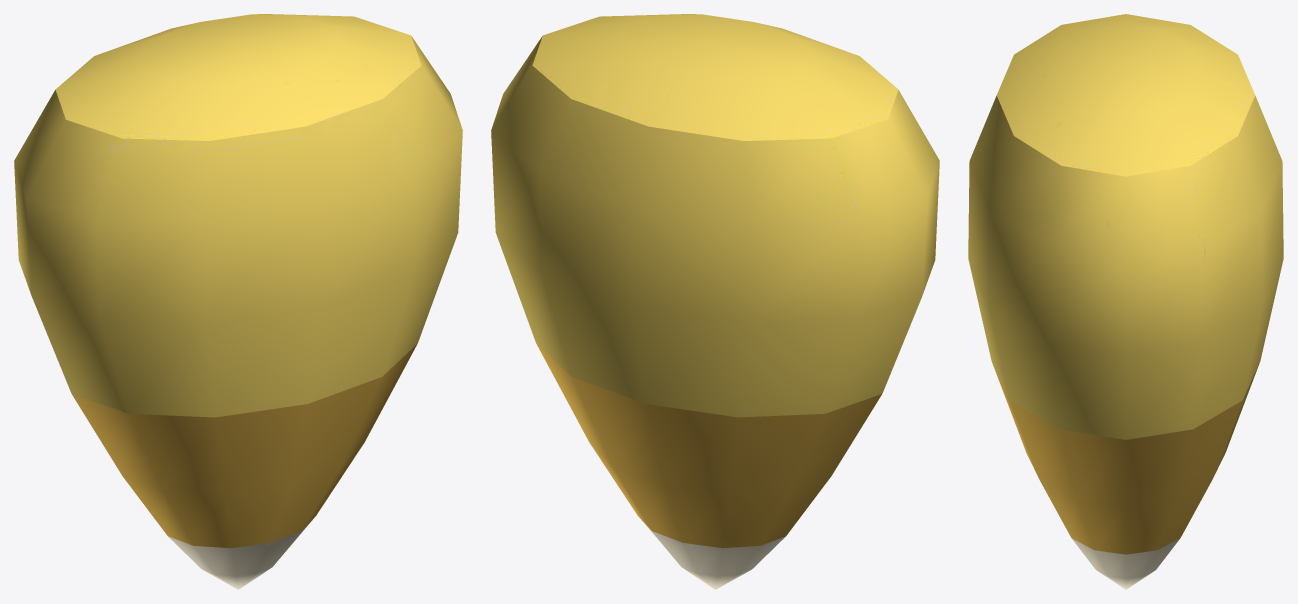
The picture shows the model from 3 angles, left to right: view 1: azimuth 30°, elevation 25°; view 2: azimuth 150°, elevation 25°; view 3: azimuth 270°, elevation 25°; orthographic projection. The views are drawn at different scales.
Parts seen in each view (by area): view 1: Corn_Yellow, Warm_Hay_Gold, Pale_Cream_Tip; view 2: Corn_Yellow, Warm_Hay_Gold, Pale_Cream_Tip; view 3: Corn_Yellow, Warm_Hay_Gold, Pale_Cream_Tip.
Part boxes in pixels (<box>): Corn_Yellow: <box>14,14,462,417</box>; Warm_Hay_Gold: <box>72,344,417,548</box>; Pale_Cream_Tip: <box>168,518,313,589</box>; Corn_Yellow: <box>491,14,939,417</box>; Warm_Hay_Gold: <box>536,344,881,548</box>; Pale_Cream_Tip: <box>640,518,785,589</box>; Corn_Yellow: <box>968,14,1283,439</box>; Warm_Hay_Gold: <box>992,364,1259,554</box>; Pale_Cream_Tip: <box>1071,538,1180,589</box>.
Bounding box in the file's own units: 0.75 × 0.92 × 0.5.
3 materials, 3 textured.
